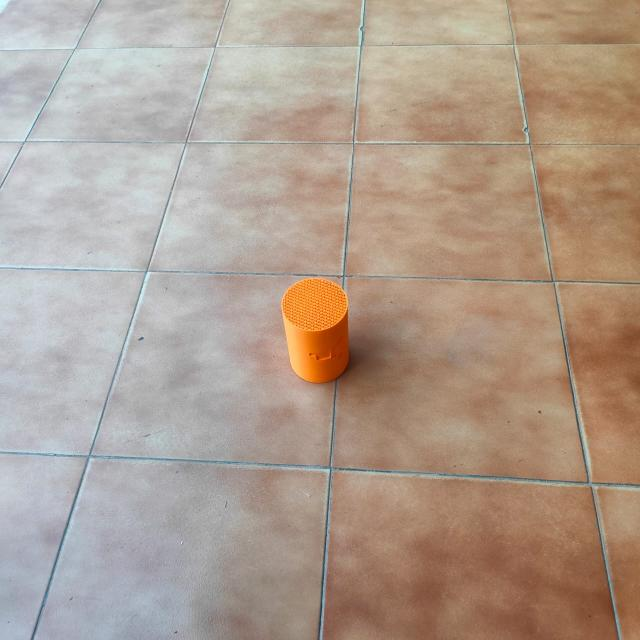Cylinder: (280, 276, 350, 384)
